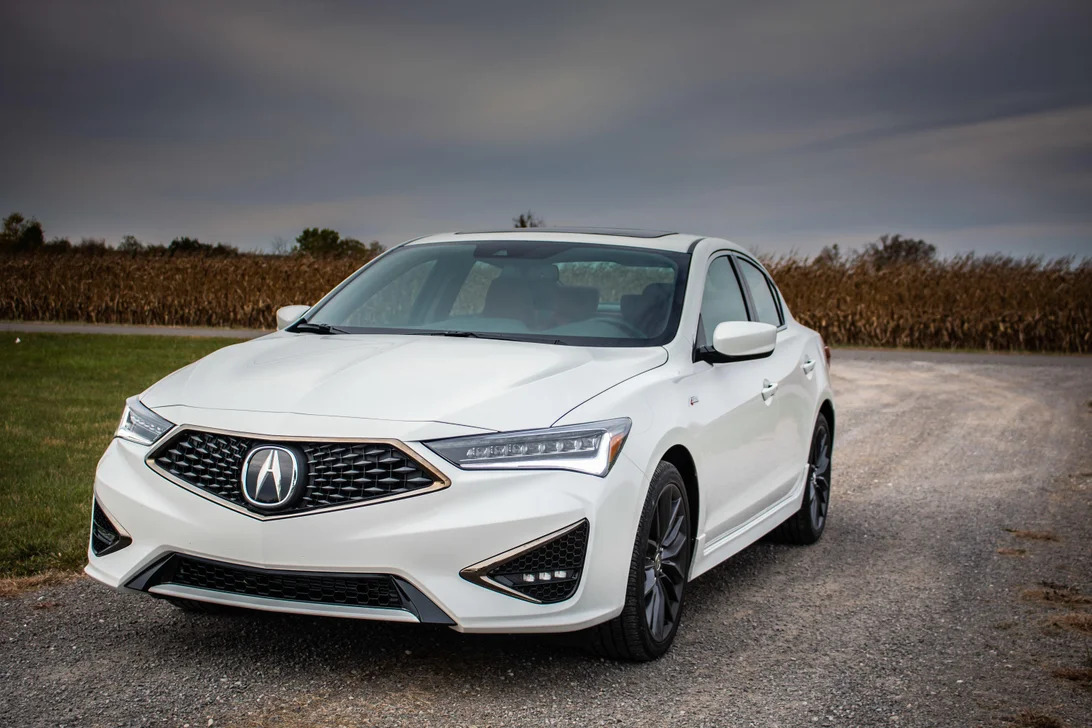Fog Lamp & Scope: (484, 537, 587, 601)
Front: (84, 357, 669, 627)
Front Bumper: (78, 520, 623, 628)
Grill: (156, 448, 428, 505)
Headlight: (447, 424, 632, 475)
